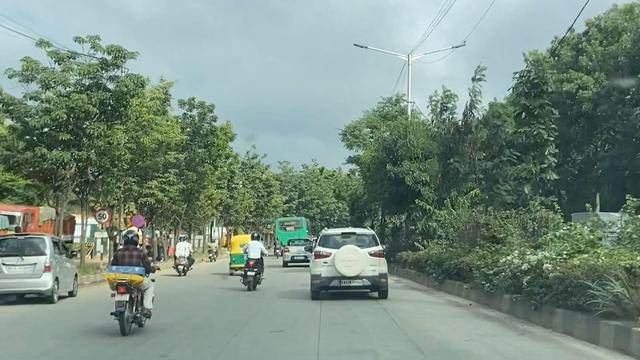LMV: (0, 217, 88, 334), (301, 210, 401, 308), (105, 221, 164, 337), (170, 225, 208, 293), (238, 225, 272, 294)
